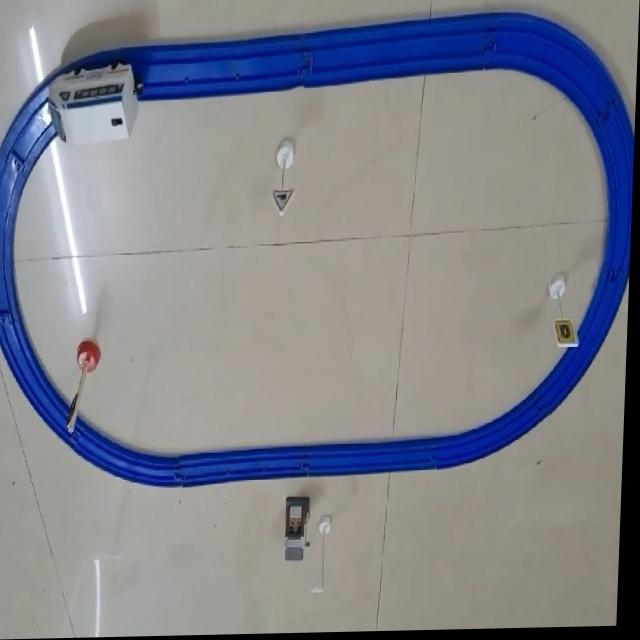bus: (47, 61, 145, 149)
